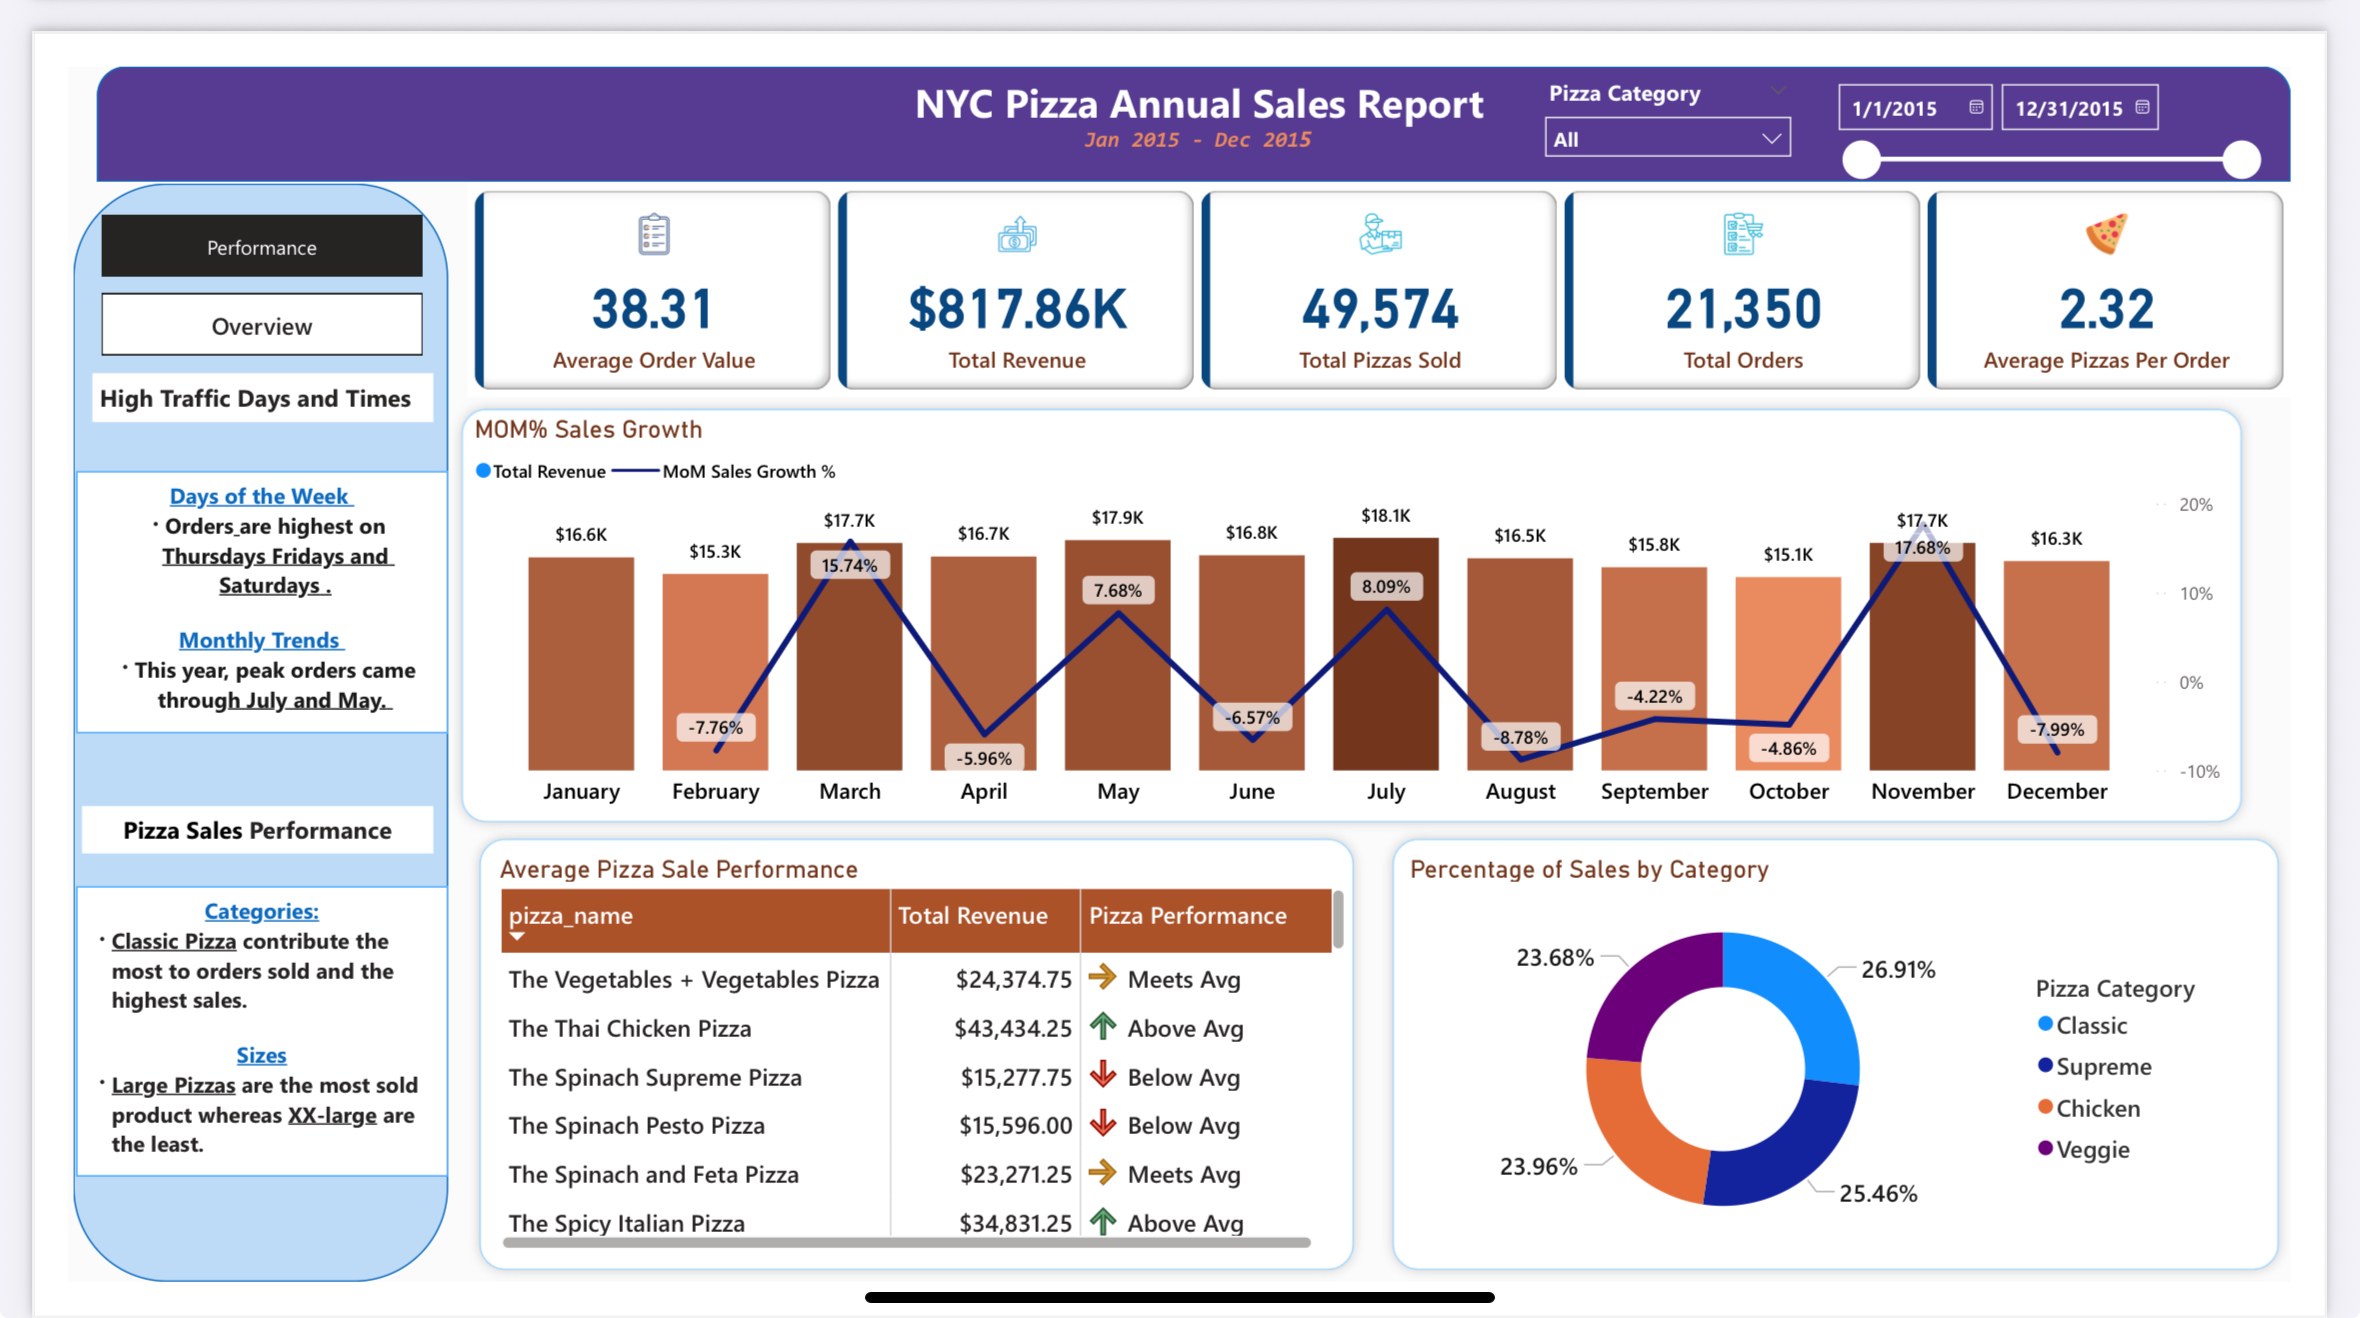

The dashboard page shown, as its layout file describes it:
{"tool":"powerbi","page":{"name":"Performance","canvas":[1500,820],"ordinal":1},"visuals":[{"type":"shape","box":[258.3,223.3,1216.7,295],"z":0},{"type":"cardVisual","fields":{"Data":["pizza_sales.Average Order Value","pizza_sales.Total Revenue","pizza_sales.Total Pizzas Sold","pizza_sales.Total Orders","pizza_sales.Average Pizzas Per Order"]},"box":[270,78.6,1230,144.3],"z":1000},{"type":"shape","box":[20,0,1480,78.3],"z":2000},{"type":"textbox","box":[548.6,0,430,52.9],"z":3000},{"type":"textbox","box":[681.4,32.9,220,32.9],"z":4000},{"type":"lineStackedColumnComboChart","title":"MOM% Sales Growth","fields":{"Category":["DateTable.Month"],"Y":["pizza_sales.Total Revenue"],"Y2":["DateTable.MoM Sales Growth %"]},"box":[270,234.3,1192.9,274.3],"z":5000},{"type":"shape","box":[4.3,78.6,252.9,741.4],"z":6000},{"type":"textbox","box":[16.7,206.7,230,33.3],"z":7000},{"type":"textbox","box":[5.7,272.9,251.4,177.1],"z":8000},{"type":"textbox","box":[10,498.6,237.1,32.9],"z":9000},{"type":"textbox","box":[5.7,552.9,251.4,195.7],"z":10000},{"type":"slicer","fields":{"Values":["pizza_sales.pizza_category"]},"box":[986.7,1.7,186.7,60],"z":11000},{"type":"slicer","fields":{"Values":["pizza_sales.order_date"]},"box":[1181.7,1.7,306.7,86.7],"z":12000},{"type":"pageNavigator","title":"Home","box":[23.3,153.3,216.7,41.7],"z":13000},{"type":"pageNavigator","title":"Home","box":[23.3,100,216.7,41.7],"z":14000},{"type":"shape","box":[270,512.9,605.7,307.1],"z":14500},{"type":"tableEx","title":"Average Pizza Sale Performance","fields":{"Values":["pizza_sales.pizza_name","pizza_sales.Total Revenue","pizza_sales.Pizza Performance"]},"box":[287.1,531.4,580,271.4],"z":15000},{"type":"shape","box":[885.7,512.9,614.3,307.1],"z":17000},{"type":"donutChart","title":"Percentage of Sales by Category ","fields":{"Y":["pizza_sales.Total Revenue"],"Category":["pizza_sales.pizza_category"]},"box":[901.4,531.4,562.9,271.4],"z":18000}]}

Visuals, with their boxes in screenshot pixels (x1, y1, x2, y2), scaled from the page's 1500x820 canvas onto the 2360x1318 screenshot:
shape: <box>406,359,2321,833</box>
cardVisual - pizza_sales.Average Order Value x pizza_sales.Total Revenue: <box>425,126,2359,358</box>
shape: <box>31,0,2359,126</box>
textbox: <box>863,0,1540,85</box>
textbox: <box>1072,53,1418,106</box>
"MOM% Sales Growth" lineStackedColumnComboChart: <box>425,377,2302,817</box>
shape: <box>7,126,405,1317</box>
textbox: <box>26,332,388,386</box>
textbox: <box>9,439,405,723</box>
textbox: <box>16,801,389,854</box>
textbox: <box>9,889,405,1203</box>
slicer - pizza_sales.pizza_category: <box>1552,3,1846,99</box>
slicer - pizza_sales.order_date: <box>1859,3,2342,142</box>
"Home" pageNavigator: <box>37,246,378,313</box>
"Home" pageNavigator: <box>37,161,378,228</box>
shape: <box>425,824,1378,1317</box>
"Average Pizza Sale Performance" tableEx: <box>452,854,1364,1290</box>
shape: <box>1394,824,2359,1317</box>
"Percentage of Sales by Category " donutChart: <box>1418,854,2304,1290</box>
